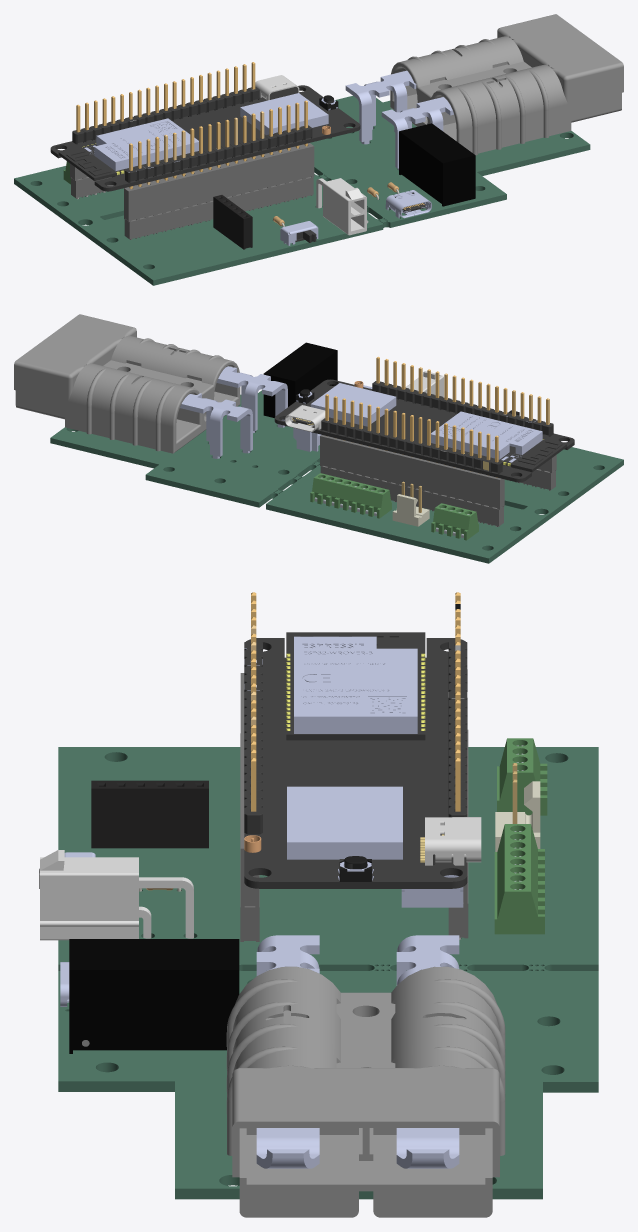
Rendered from LiIONDisplay.glb.
3 views of the same model, one above another, from view 1: azimuth 30°, elevation 25°; view 2: azimuth 150°, elevation 25°; view 3: azimuth 270°, elevation 25° (orthographic). The views are drawn at different scales.
Visible parts, largest first — view 1: =>[0:1:1:15], U1, J2, ESQ-121-48-S-S_socket, MGS6, ESQ-121-48-G-S-LL_bpins (×2), NAUO1 (×2), =>[0:1:1:2], J5, J8, U3; view 2: =>[0:1:1:15], J2, U1, ESQ-121-48-S-S_socket, NAUO1 (×2), MGS6, ESQ-121-48-G-S-LL_bpins (×2), J6, J3, J7, =>[0:1:1:2]; view 3: =>[0:1:1:15], J2, U1, MGS6, =>[0:1:1:2], NAUO1 (×2), J5, J6, J3, ESQ-121-48-G-S-LL_bpins (×2), J7, ESQ-121-48-S-S_socket.
Boxes of the visible parts, <box> form: =>[0:1:1:15]: <box>14,96,590,285</box>; U1: <box>50,62,360,191</box>; J2: <box>390,14,623,155</box>; ESQ-121-48-S-S_socket: <box>124,143,314,221</box>; MGS6: <box>399,123,475,214</box>; ESQ-121-48-G-S-LL_bpins (×2): <box>71,177,313,239</box>; NAUO1 (×2): <box>345,70,453,170</box>; =>[0:1:1:2]: <box>316,178,368,235</box>; J5: <box>213,195,252,249</box>; J8: <box>385,190,431,218</box>; U3: <box>280,221,318,245</box>; =>[0:1:1:15]: <box>50,390,623,563</box>; J2: <box>14,314,240,453</box>; U1: <box>274,356,574,482</box>; ESQ-121-48-S-S_socket: <box>320,435,504,509</box>; NAUO1 (×2): <box>180,366,287,458</box>; MGS6: <box>263,342,337,417</box>; ESQ-121-48-G-S-LL_bpins (×2): <box>320,466,555,526</box>; J6: <box>310,473,391,518</box>; J3: <box>431,503,478,540</box>; J7: <box>392,481,429,526</box>; =>[0:1:1:2]: <box>405,371,443,397</box>; =>[0:1:1:15]: <box>58,747,598,1199</box>; J2: <box>226,966,505,1217</box>; U1: <box>244,592,481,907</box>; MGS6: <box>69,939,239,1053</box>; =>[0:1:1:2]: <box>40,850,193,940</box>; NAUO1 (×2): <box>256,935,459,1168</box>; J5: <box>91,780,208,848</box>; J6: <box>494,824,544,934</box>; J3: <box>497,738,547,815</box>; ESQ-121-48-G-S-LL_bpins (×2): <box>240,730,468,941</box>; J7: <box>495,763,540,851</box>; ESQ-121-48-S-S_socket: <box>240,673,259,907</box>.
Size of the model in its own units: 0.1495 by 0.0329 by 0.0725.
